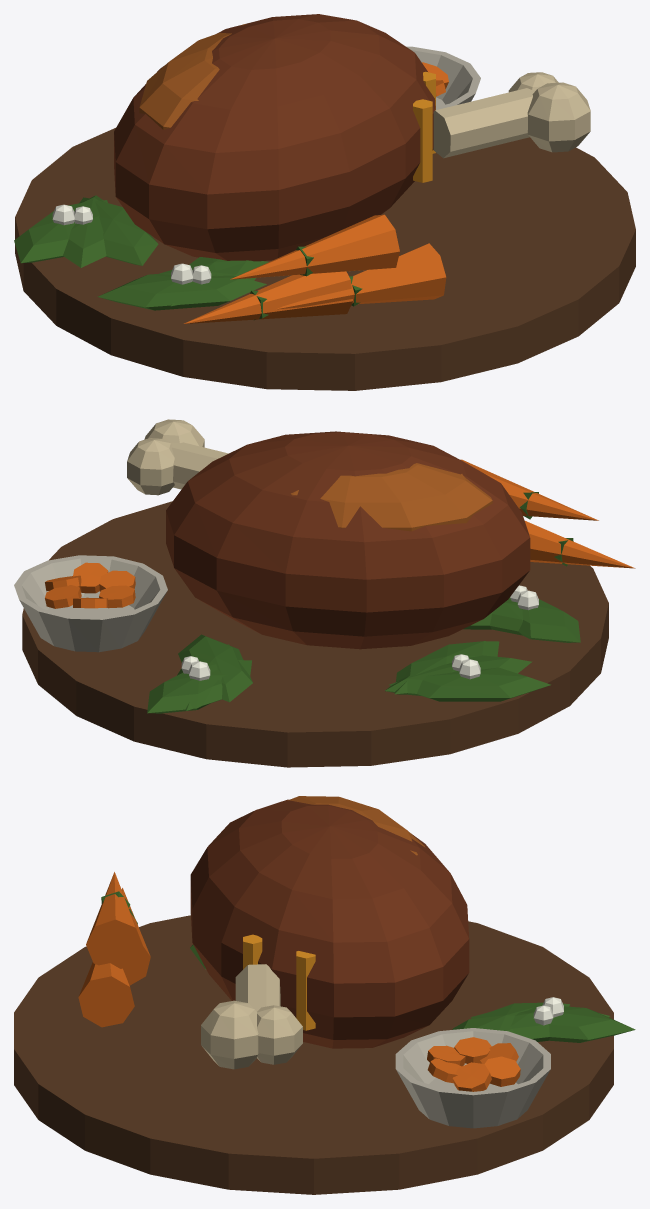
The model's file is VFP_YuleRoast.obj.
3 views of the same model, one above another, from view 1: azimuth 30°, elevation 25°; view 2: azimuth 150°, elevation 25°; view 3: azimuth 270°, elevation 25° (orthographic). The views are drawn at different scales.
Parts seen in each view (by area): view 1: Board, Roast, Carrots, Leaves, Bone, Roast_meat_glaze, Bowl, Honey, Mistletoe; view 2: Board, Roast, Leaves, Bowl, Roast_meat_glaze, Bone, Carrots, Bowl_carrot, Mistletoe; view 3: Board, Roast, Bowl, Bone, Carrots, Leaves, Bowl_carrot, Honey, Roast_meat_glaze, Mistletoe.
Part boxes in pixels (x1=…): Board: x1=15, y1=128, x2=635, y2=390; Roast: x1=114, y1=14, x2=435, y2=261; Carrots: x1=184, y1=214, x2=446, y2=323; Leaves: x1=14, y1=195, x2=268, y2=310; Bone: x1=433, y1=72, x2=590, y2=158; Roast_meat_glaze: x1=139, y1=24, x2=245, y2=129; Bowl: x1=406, y1=46, x2=480, y2=109; Honey: x1=413, y1=71, x2=435, y2=182; Mistletoe: x1=52, y1=204, x2=211, y2=284; Board: x1=22, y1=501, x2=608, y2=767; Roast: x1=166, y1=431, x2=530, y2=649; Leaves: x1=147, y1=597, x2=580, y2=713; Bowl: x1=14, y1=555, x2=167, y2=652; Roast_meat_glaze: x1=291, y1=463, x2=492, y2=531; Bone: x1=127, y1=419, x2=228, y2=495; Carrots: x1=460, y1=459, x2=635, y2=568; Bowl_carrot: x1=45, y1=562, x2=135, y2=608; Mistletoe: x1=181, y1=585, x2=538, y2=680; Board: x1=14, y1=915, x2=613, y2=1194; Roast: x1=190, y1=799, x2=469, y2=1048; Bowl: x1=395, y1=1028, x2=550, y2=1128; Bone: x1=201, y1=964, x2=302, y2=1069; Carrots: x1=78, y1=872, x2=150, y2=1027; Leaves: x1=190, y1=944, x2=635, y2=1042; Bowl_carrot: x1=427, y1=1037, x2=520, y2=1091; Honey: x1=243, y1=934, x2=315, y2=1030; Roast_meat_glaze: x1=287, y1=796, x2=425, y2=855; Mistletoe: x1=533, y1=997, x2=563, y2=1025.
Bounding box in the file's own units: 0.3857 × 0.1525 × 0.3901.
